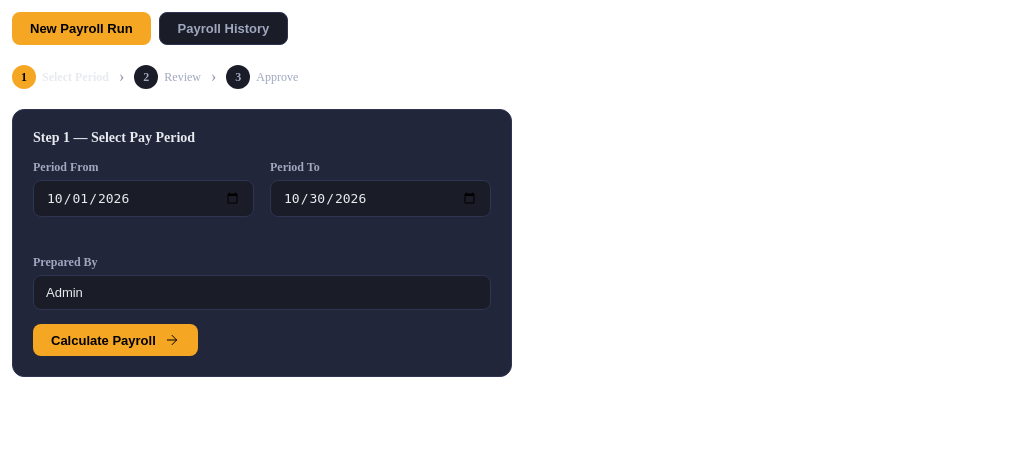
Test case: 8a: overlap preflight error is displayed and prevents calculation/generation
Click the button "Calculate Payroll". click: (115, 340)
box: [33,324,198,356]
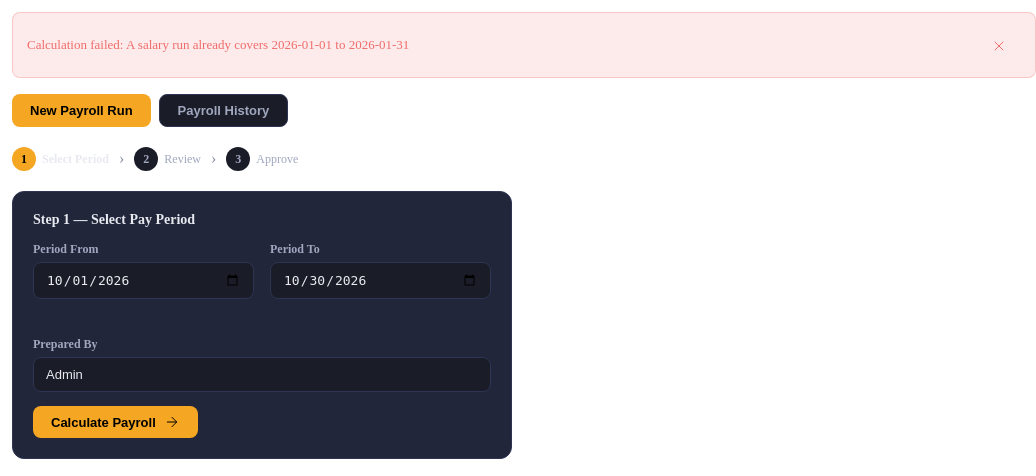
Result: the text "A salary run already covers 2026-01-01 to 2026-01-31" is shown at [27,37,409,52]
